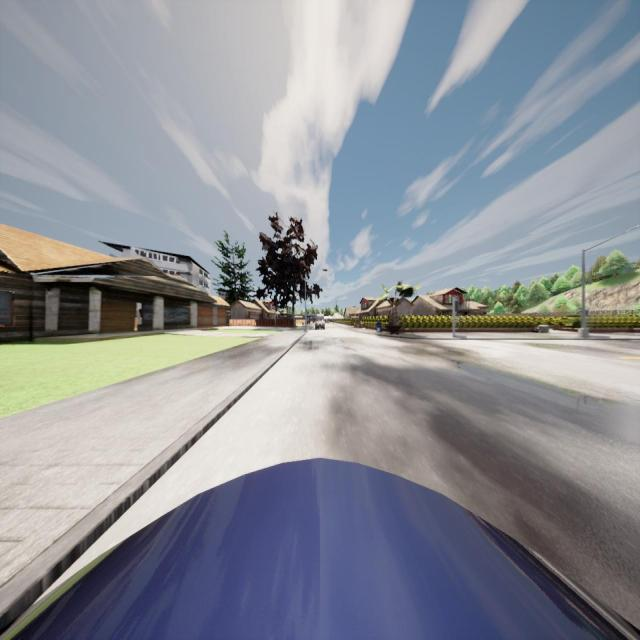Vehicle: (1, 458, 640, 640), (315, 314, 325, 330)
traffic_light: (454, 299, 459, 312)
